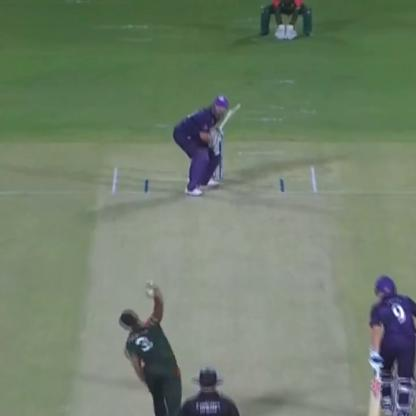ball: (144, 278, 159, 290), (143, 288, 157, 300)
bat: (361, 353, 395, 416), (212, 95, 244, 131)
pitch: (62, 154, 370, 416)
